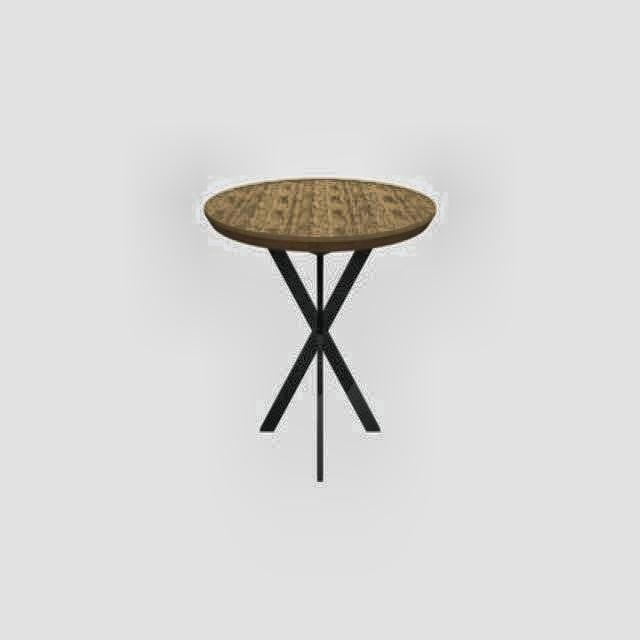mesa: (204, 174, 436, 482)
